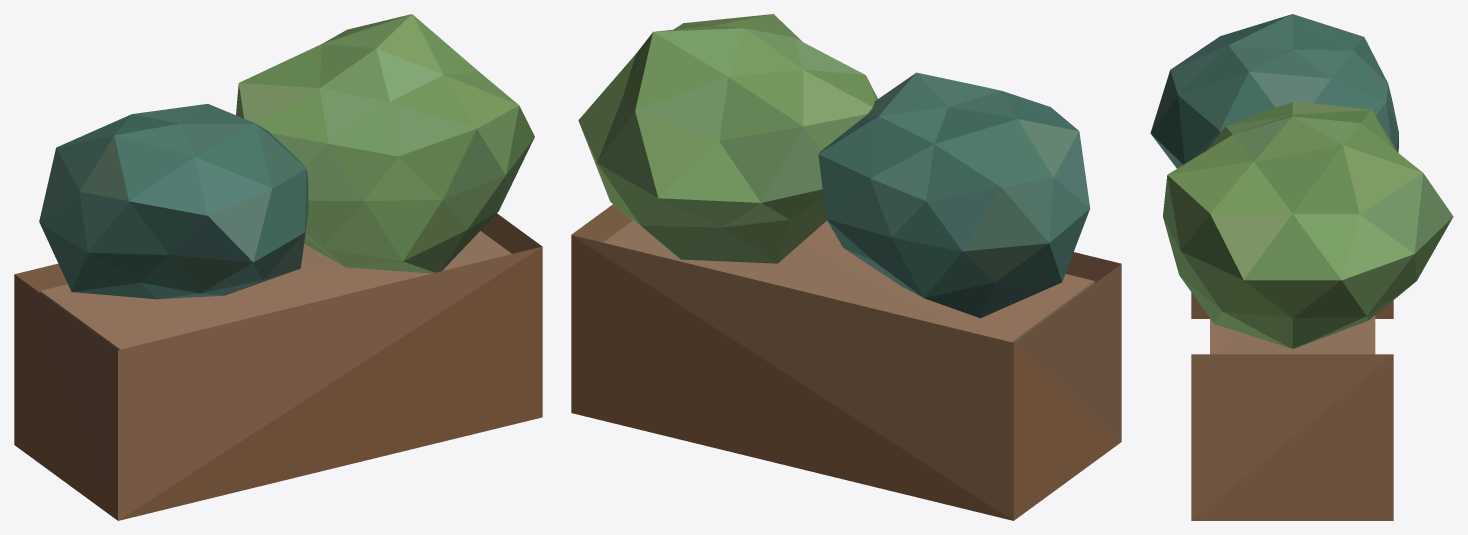
The model's file is HK_Planter.lod.glb.
3 views of the same model, side by side, from view 1: azimuth 30°, elevation 25°; view 2: azimuth 150°, elevation 25°; view 3: azimuth 270°, elevation 25° (orthographic). The views are drawn at different scales.
Parts seen in each view (by area): view 1: HK_Planter; view 2: HK_Planter; view 3: HK_Planter.
Boxes of the visible parts, x1,y1,x2,y2 form: HK_Planter: (14,14,542,520); HK_Planter: (571,14,1121,520); HK_Planter: (1150,14,1453,520).
Size of the model in its own units: 1.38 by 1.05 by 0.8241.
